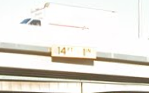1: (80, 46, 87, 57), (55, 44, 61, 56)
4: (59, 45, 68, 56)
overheadsign: (51, 43, 97, 61)
